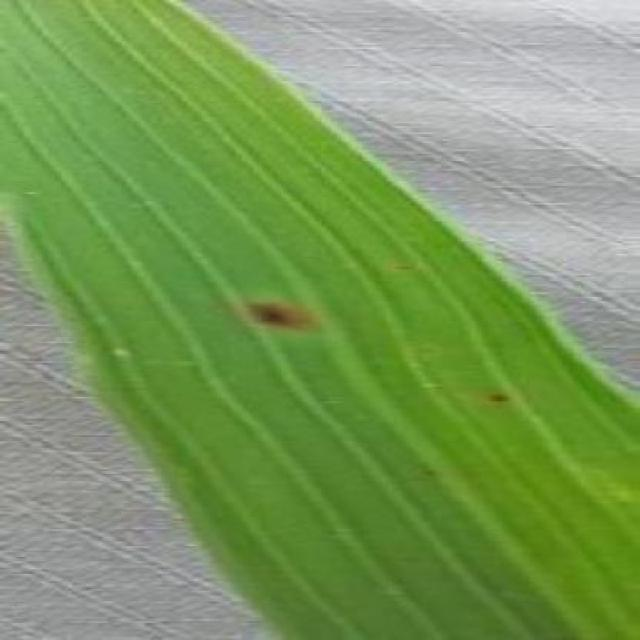Leaf_Blast: (233, 288, 332, 339), (407, 334, 447, 364), (478, 383, 518, 411), (388, 547, 424, 575), (314, 386, 349, 414), (409, 460, 446, 486), (124, 79, 156, 106), (13, 183, 47, 208), (387, 255, 422, 278), (612, 530, 639, 555), (0, 33, 18, 61)
